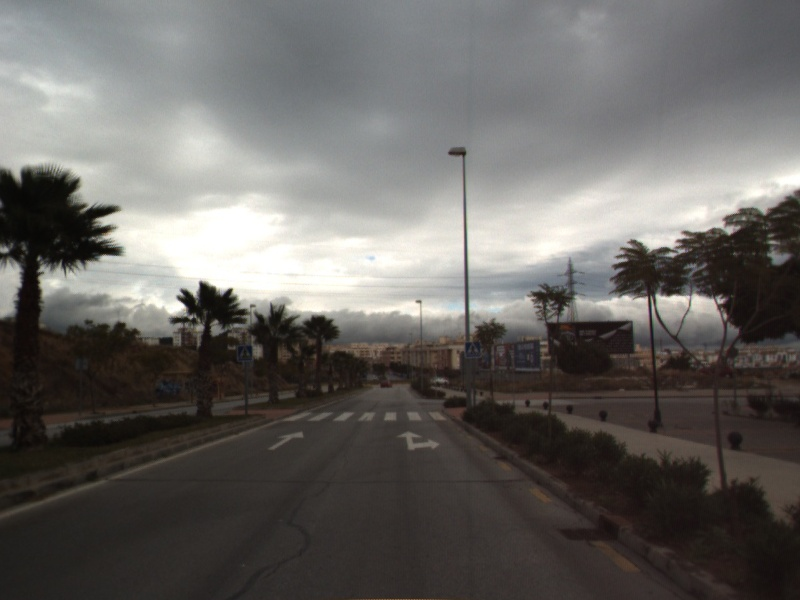STRAIGHT: (266, 429, 306, 452)
STRAIGHT_RIGHT: (395, 429, 442, 452)
